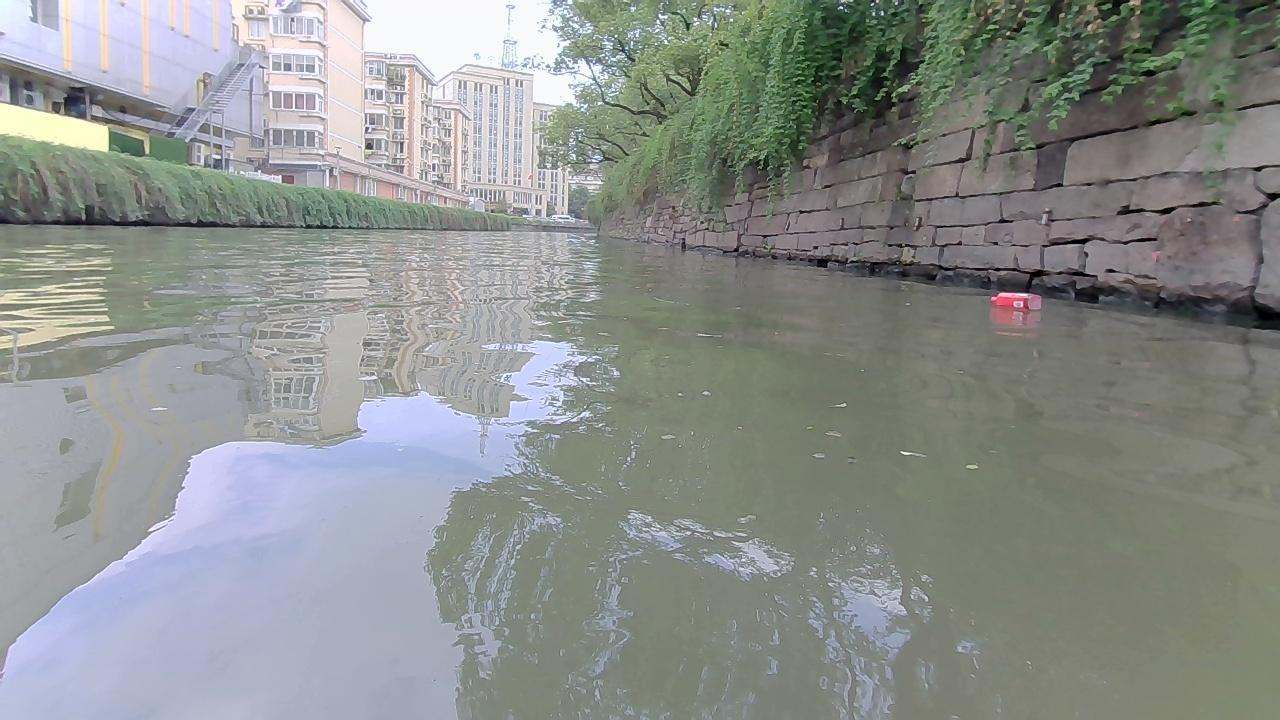bottle: (988, 291, 1041, 309)
